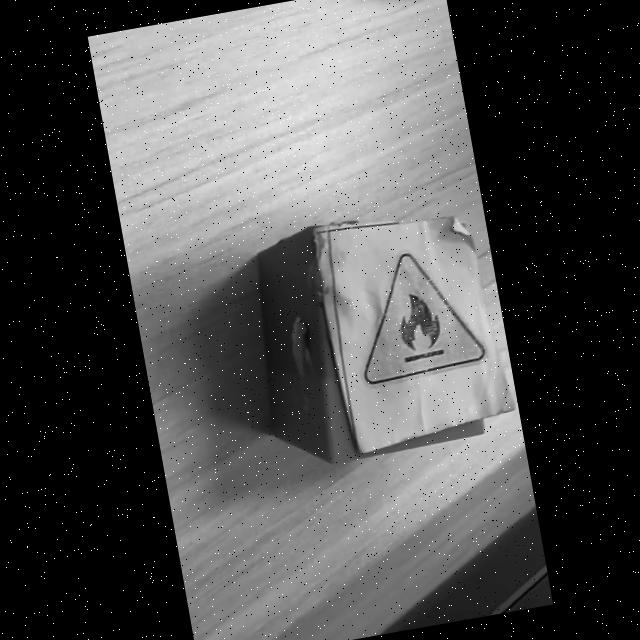Fire: (363, 254, 484, 385)
